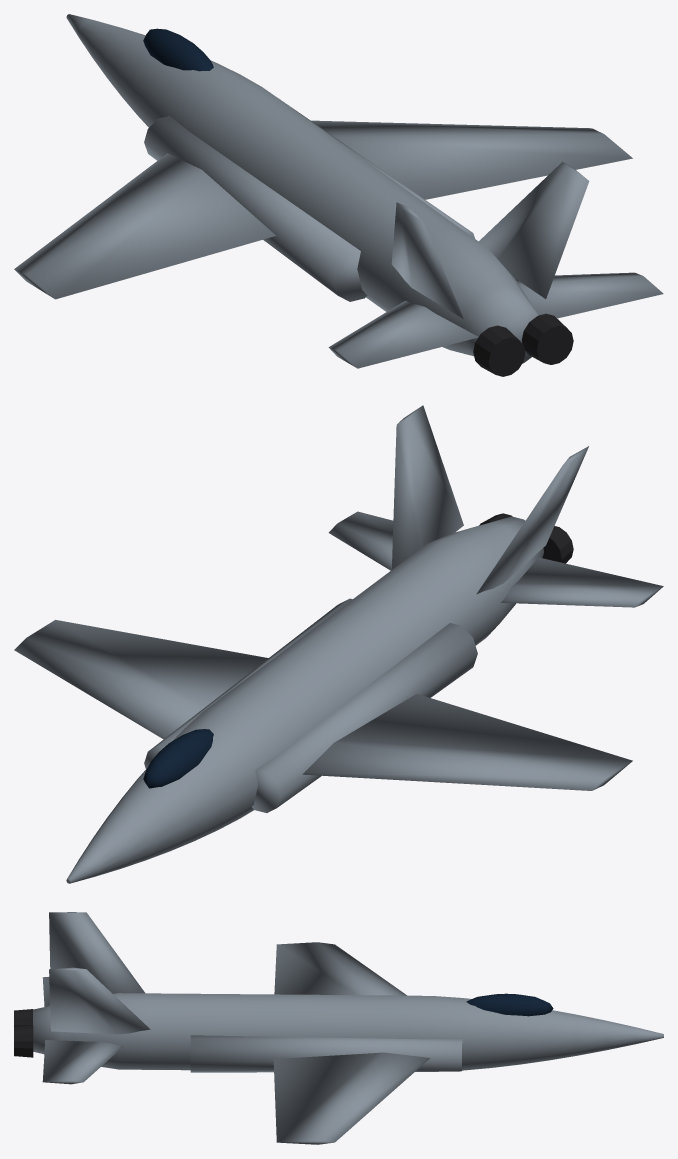
3 renders of one model, top to bottom at view 1: azimuth 30°, elevation 25°; view 2: azimuth 150°, elevation 25°; view 3: azimuth 270°, elevation 25°, orthographic. The views are drawn at different scales.
Visible parts, largest first — view 1: Body, Detail, Canopy; view 2: Body, Canopy, Detail; view 3: Body, Canopy, Detail.
Part boxes in pixels (bbox=[...]): Body: bbox=[14, 14, 663, 368]; Detail: bbox=[473, 313, 573, 376]; Canopy: bbox=[143, 28, 213, 71]; Body: bbox=[14, 405, 663, 883]; Canopy: bbox=[143, 729, 213, 788]; Detail: bbox=[479, 513, 573, 563]; Body: bbox=[33, 912, 663, 1144]; Canopy: bbox=[466, 993, 553, 1016]; Detail: bbox=[14, 1009, 33, 1057].
Bounding box in the file's own units: 13.6 × 4.11 × 18.85.
